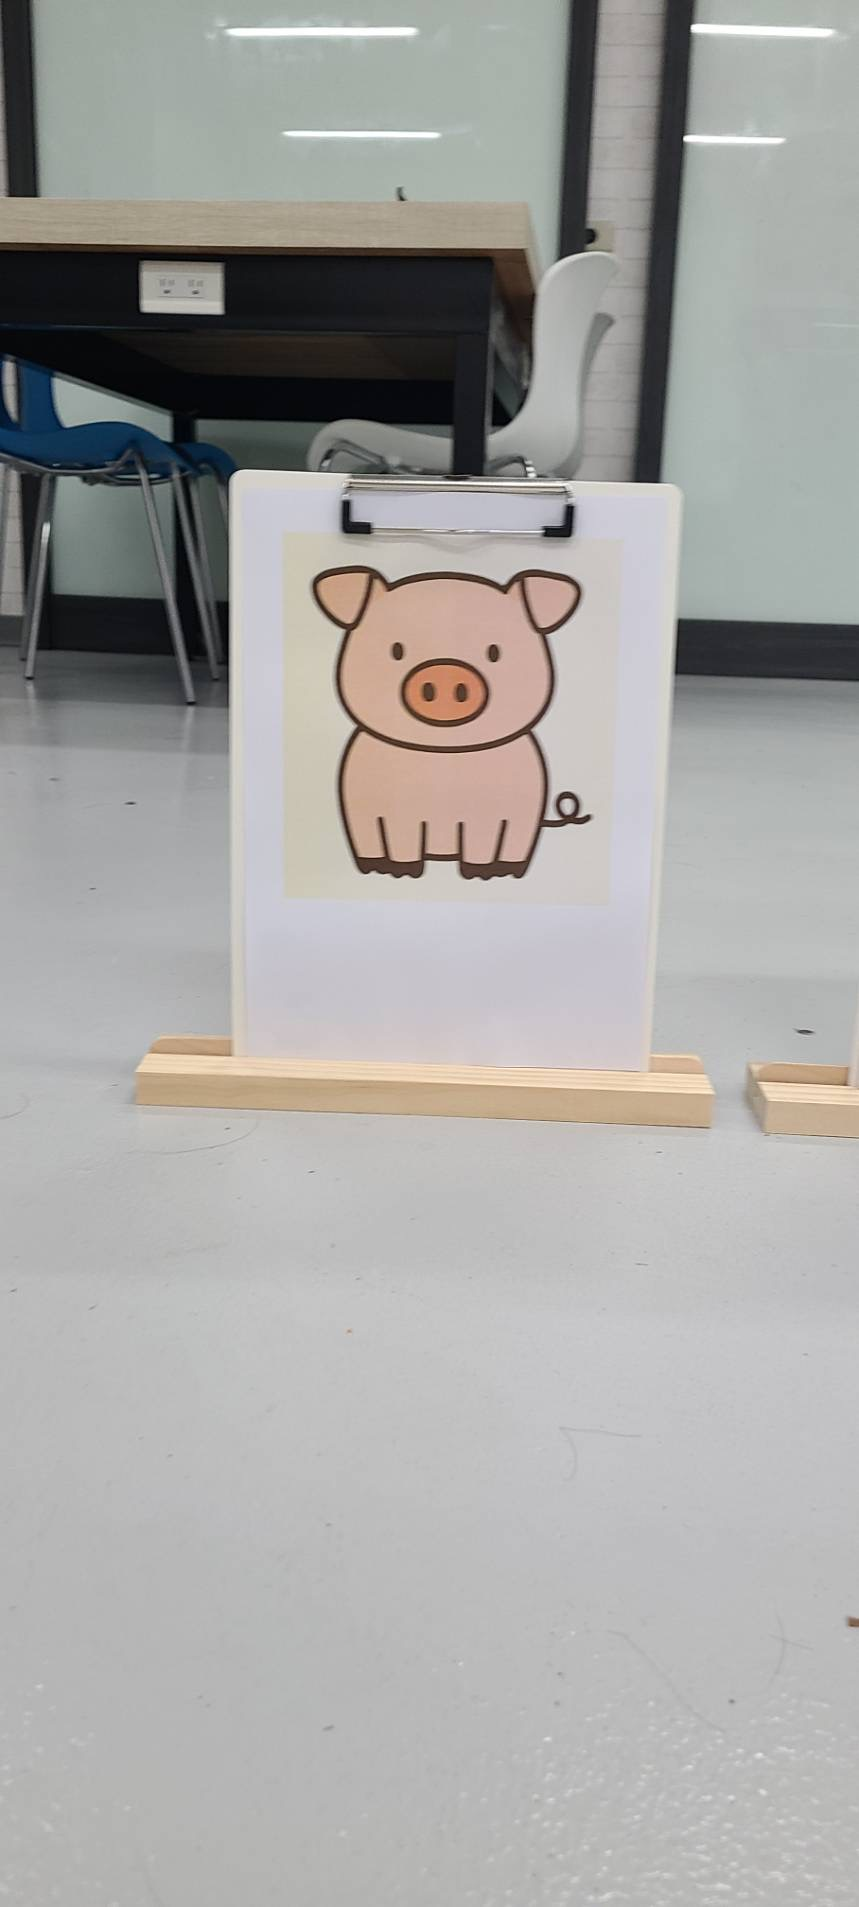pig: (309, 561, 601, 884)
